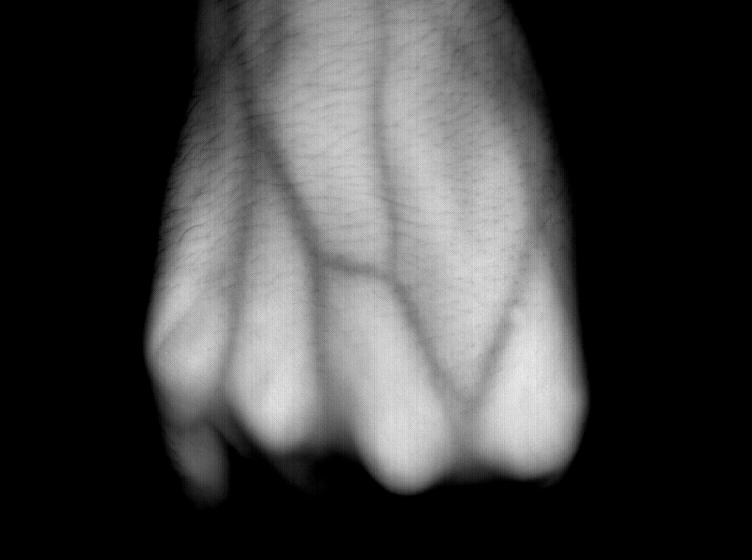Vein: (240, 78, 431, 344)
